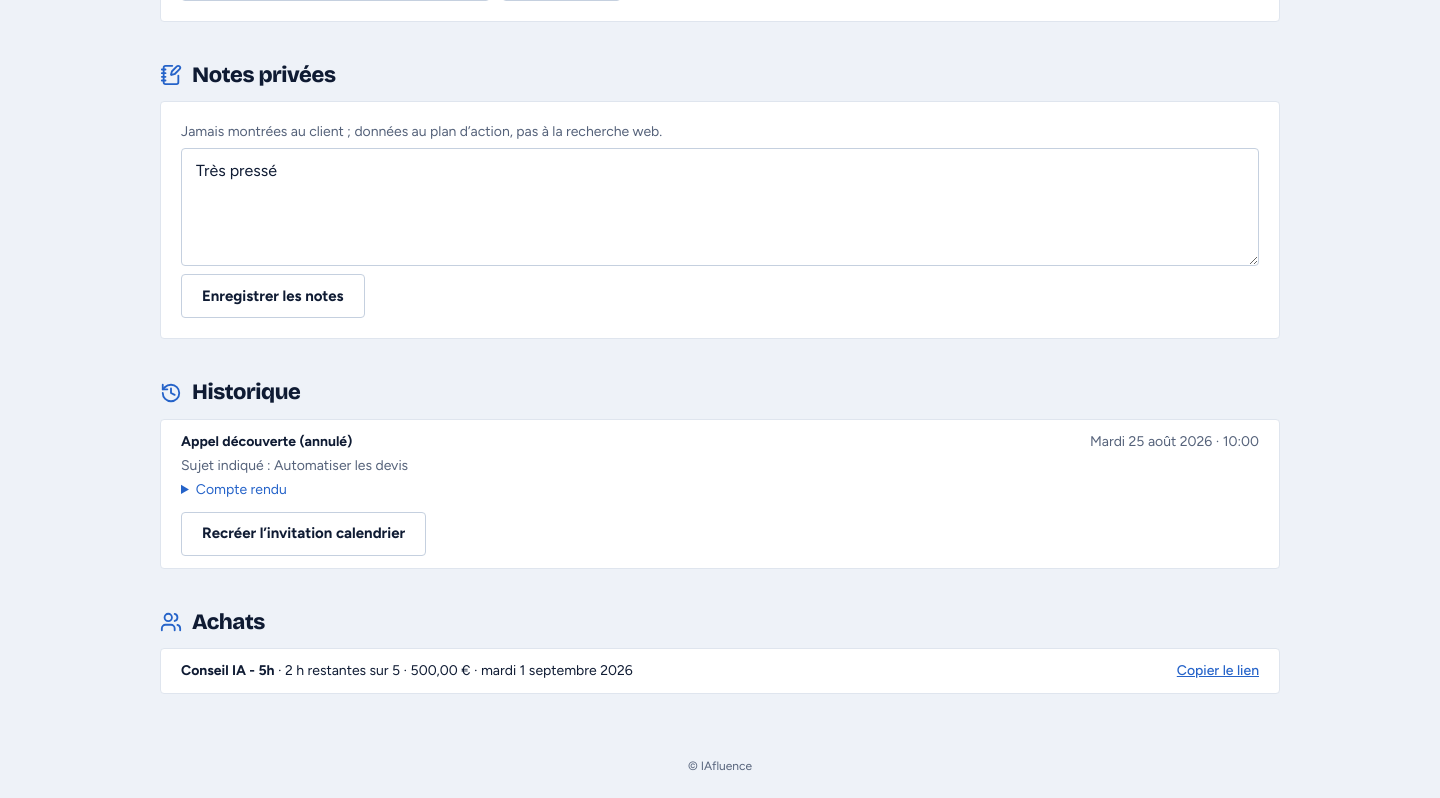
Test case: LearnerPage › shows why a discovery invitation cannot be recreated
This screenshot has width=1440, height=798.
(page scrolled)
Click the button "Recréer l’invitation calendrier" at [304, 534], box [181, 512, 426, 556]
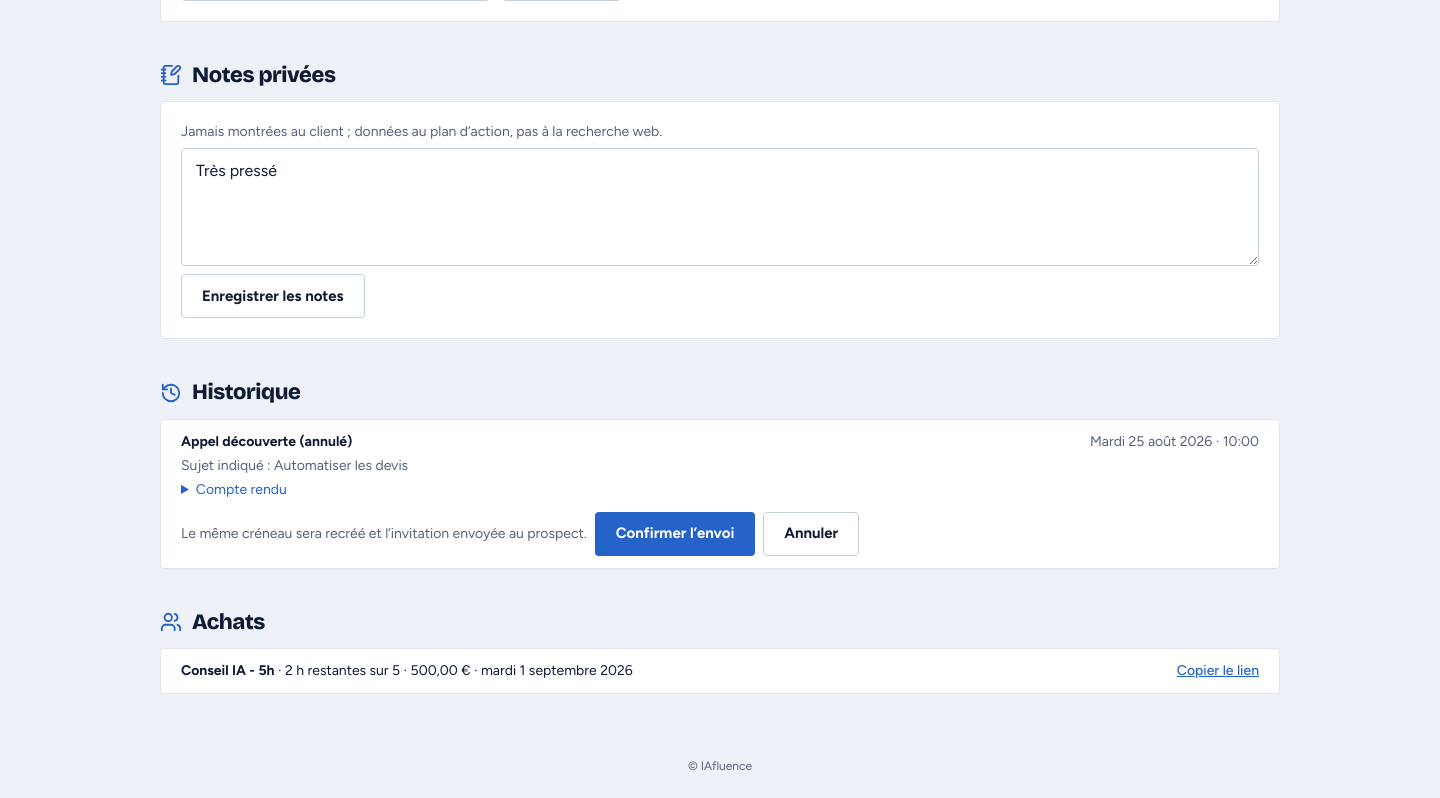
Click the button "Confirmer l’envoi" at [675, 534], box [595, 512, 755, 556]
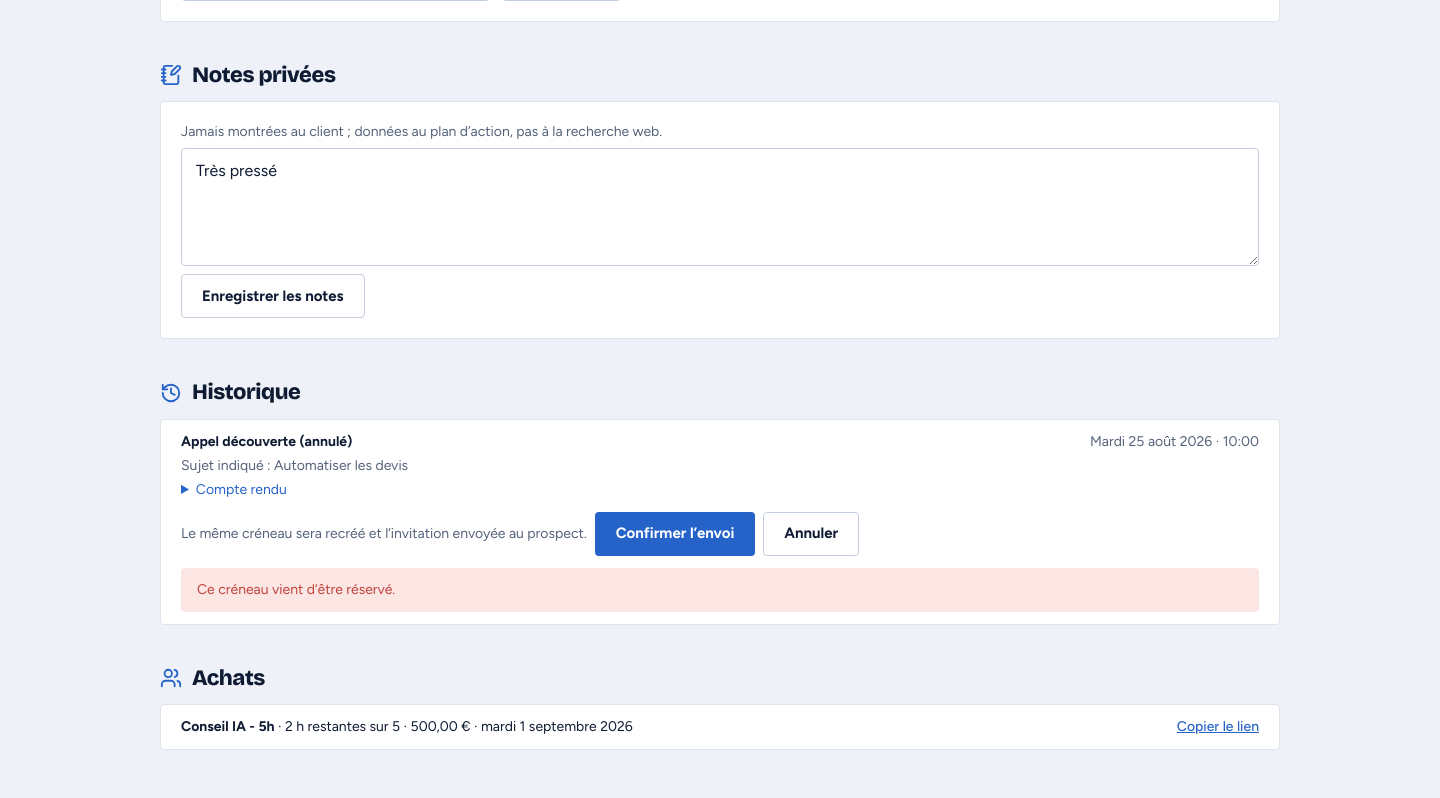
Expected: the message reads "Ce créneau vient d’être réservé.", [197, 580, 395, 598]
